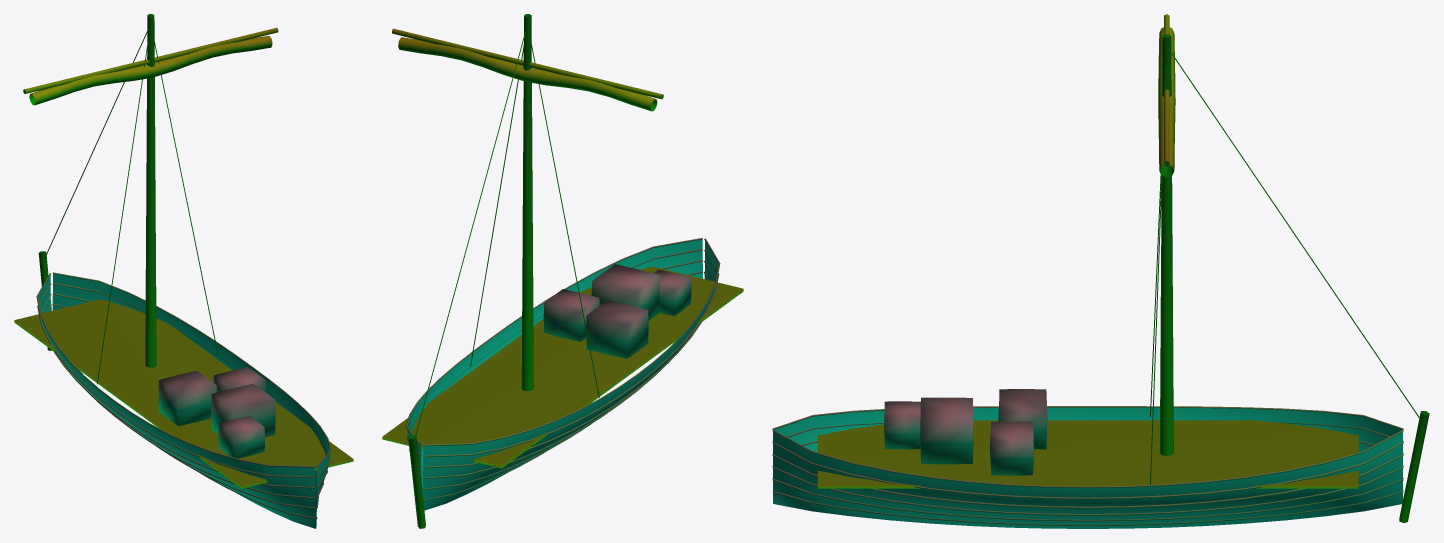
File: trader_boat.glb
The picture shows the model from 3 angles, left to right: view 1: azimuth 30°, elevation 25°; view 2: azimuth 150°, elevation 25°; view 3: azimuth 270°, elevation 25°; orthographic projection. The views are drawn at different scales.
Visible parts, largest first — view 1: trader_boat; view 2: trader_boat; view 3: trader_boat.
Part boxes in pixels (left/top/right/bottom): trader_boat: left=14, top=14, right=353, bottom=528; trader_boat: left=382, top=14, right=743, bottom=528; trader_boat: left=772, top=14, right=1429, bottom=528.
Size of what is drawn, in the model's own units: 6.4 by 9.87 by 12.1.
